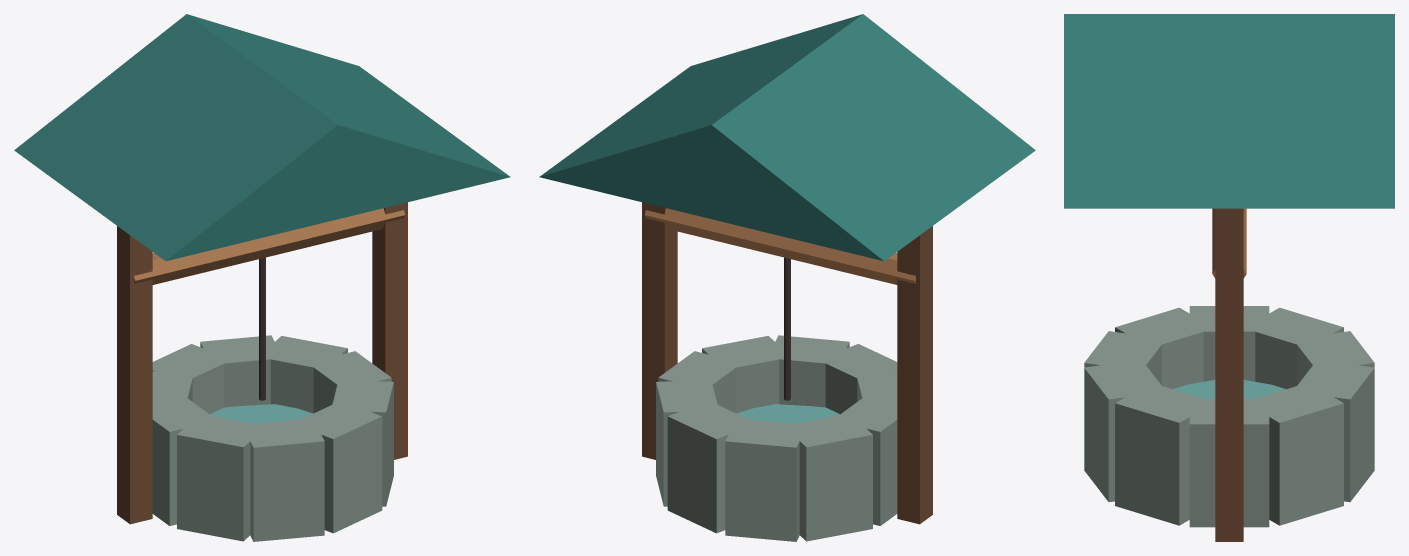
File: studna.glb
The picture shows the model from 3 angles, left to right: view 1: azimuth 30°, elevation 25°; view 2: azimuth 150°, elevation 25°; view 3: azimuth 270°, elevation 25°; orthographic projection. The views are drawn at different scales.
Parts seen in each view (by area): view 1: material_357c76, material_8b9b92, material_785239, material_ad7950, material_6ba9a4, material_483b36; view 2: material_357c76, material_8b9b92, material_785239, material_ad7950, material_6ba9a4, material_483b36; view 3: material_357c76, material_8b9b92, material_785239, material_6ba9a4, material_ad7950.
Boxes of the visible parts, box(x1,y1,x2,y2) form: material_357c76: box(14, 14, 510, 261); material_8b9b92: box(152, 335, 393, 541); material_785239: box(117, 202, 407, 524); material_ad7950: box(134, 208, 405, 284); material_6ba9a4: box(210, 404, 312, 423); material_483b36: box(259, 257, 265, 400); material_357c76: box(539, 14, 1035, 261); material_8b9b92: box(656, 335, 897, 541); material_785239: box(642, 202, 932, 524); material_ad7950: box(644, 208, 915, 284); material_6ba9a4: box(737, 404, 839, 423); material_483b36: box(784, 257, 790, 400); material_357c76: box(1064, 14, 1394, 208); material_8b9b92: box(1084, 306, 1374, 527); material_785239: box(1215, 208, 1243, 541); material_6ba9a4: box(1173, 380, 1285, 398); material_ad7950: box(1212, 208, 1246, 278).
Size of the model in its own units: 2.3 by 2.65 by 1.75.
